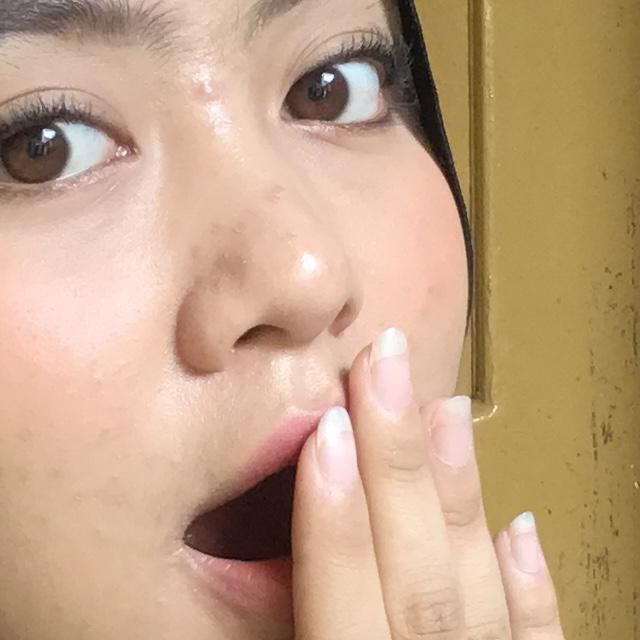ngantuk: (80, 296, 640, 640)
